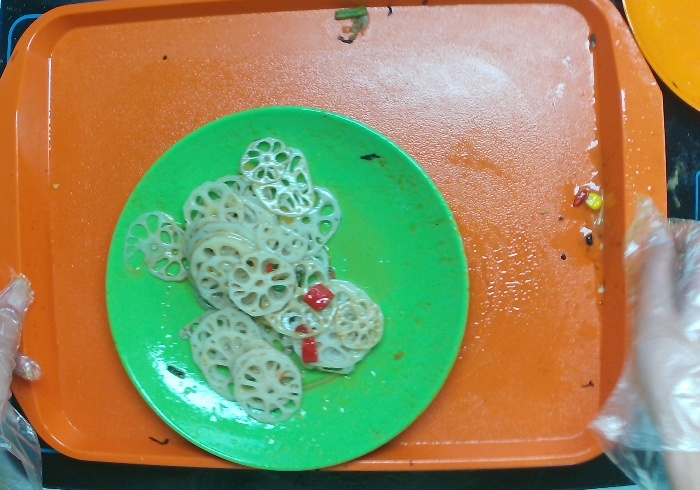HZYJPL-Lv_Se_Yuan_Pan: (105, 106, 469, 469)
